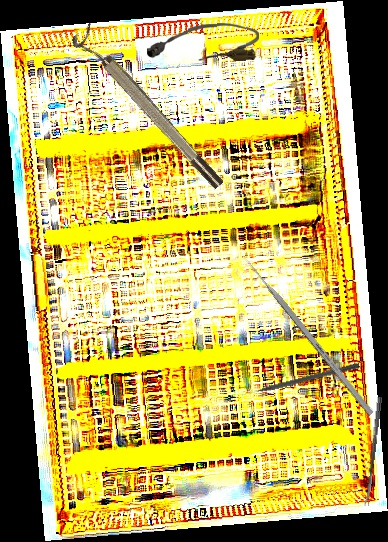Cannula: (146, 22, 260, 64)
Fixation Ring: (69, 22, 227, 198)
Pusher: (238, 250, 375, 417), (240, 361, 361, 398)
Surgical Spoon: (363, 396, 383, 507)
